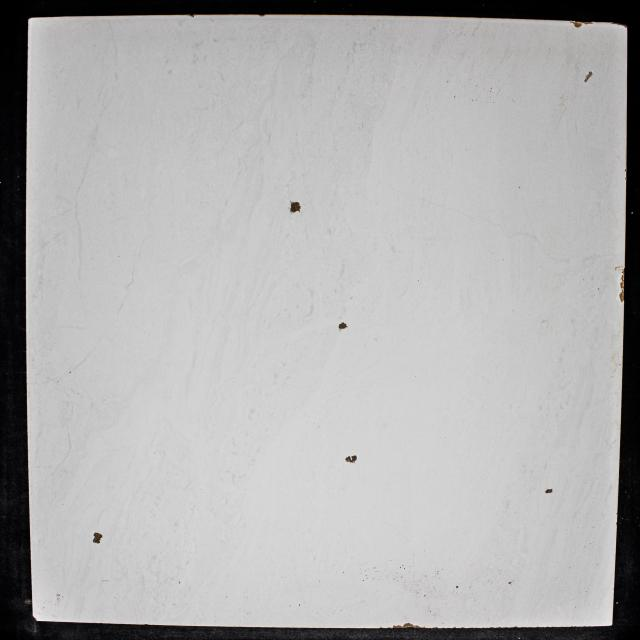edge-chipping: (618, 269, 626, 303), (391, 621, 423, 629), (570, 19, 594, 29), (188, 13, 198, 19), (31, 616, 38, 624), (258, 12, 266, 18)
hole: (289, 200, 301, 216), (583, 70, 595, 84), (92, 531, 103, 545), (344, 455, 357, 464), (338, 322, 348, 331), (545, 488, 554, 494), (456, 584, 460, 590), (508, 581, 512, 585)
